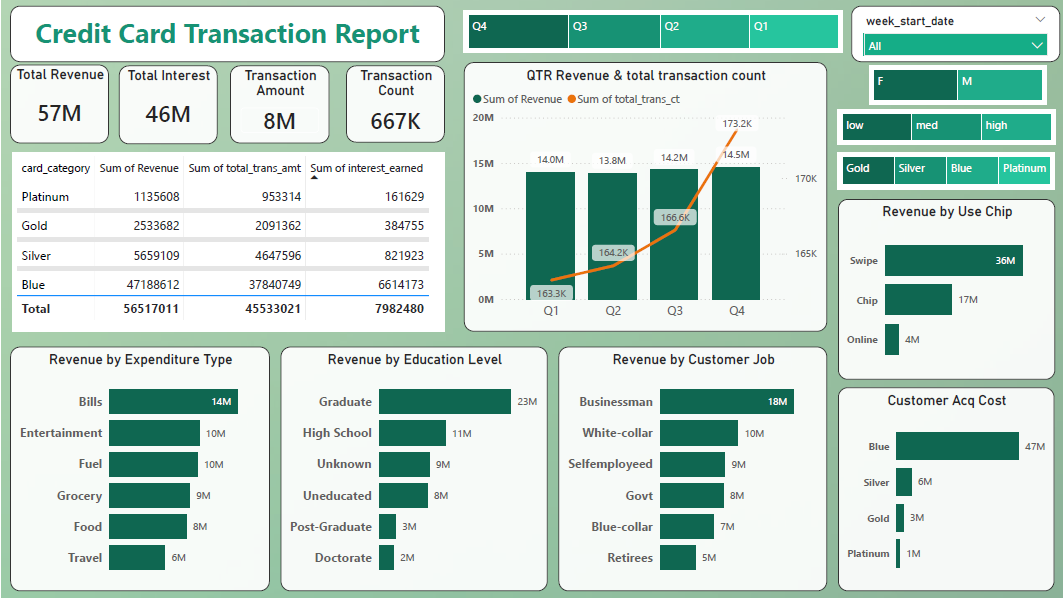

The page's visual inventory and layout, read from the dashboard file:
{"tool":"powerbi","page":{"name":"CC Transaction","canvas":[1280,720],"ordinal":1},"visuals":[{"type":"textbox","box":[10.1,7.2,524.2,67.7],"z":0},{"type":"lineStackedColumnComboChart","title":"QTR Revenue & total transaction count ","fields":{"Category":["public cc_detail.qtr"],"Y":["Sum(public cc_detail.Revenue)"],"Y2":["Sum(public cc_detail.total_trans_ct)"]},"box":[557.3,74.9,437.8,325.4],"z":1000},{"type":"barChart","title":" Revenue by Expenditure Type","fields":{"Y":["Sum(public cc_detail.Revenue)"],"Category":["public cc_detail.exp_type"]},"box":[10.1,417.6,312.5,295.2],"z":2000},{"type":"barChart","title":"Revenue by Education Level","fields":{"Y":["Sum(public cc_detail.Revenue)"],"Category":["public cust_detail.education_level"]},"box":[335.5,417.6,322.6,295.2],"z":3000},{"type":"barChart","title":"Revenue by Customer Job","fields":{"Y":["Sum(public cc_detail.Revenue)"],"Category":["public cust_detail.customer_job"]},"box":[671,417.6,324,295.2],"z":4000},{"type":"barChart","title":"Customer Acq Cost","fields":{"Y":["Sum(public cc_detail.Revenue)"],"Category":["public cc_detail.card_category"]},"box":[1008,466.6,260.6,246.2],"z":5000},{"type":"tableEx","fields":{"Values":["public cc_detail.card_category","Sum(public cc_detail.Revenue)","Sum(public cc_detail.total_trans_amt)","Sum(public cc_detail.interest_earned)"]},"box":[13,184.3,521.3,216],"z":6000},{"type":"cardVisual","title":"Total Revenue","fields":{"Data":["Sum(public cc_detail.Revenue)"]},"box":[10.1,77.8,119,95],"z":7000},{"type":"cardVisual","title":"Total Interest","fields":{"Data":["Sum(public cc_detail.total_trans_amt)"]},"box":[141.1,79.2,119,95],"z":8000},{"type":"cardVisual","title":"Transaction Amount","fields":{"Data":["Sum(public cc_detail.interest_earned)"]},"box":[275,79.2,119.5,93.6],"z":9000},{"type":"cardVisual","title":"Transaction Count","fields":{"Data":["Sum(public cc_detail.total_trans_ct)"]},"box":[414.7,79.2,119.5,93],"z":10000},{"type":"slicer","fields":{"Values":["public cc_detail.week_start_date"]},"box":[1023.8,7.2,252,67.7],"z":11000},{"type":"treemap","fields":{"Group":["public cc_detail.qtr"],"Values":["Avg(public cc_detail.client_num)"]},"box":[557.3,13,456.5,50.4],"z":12000},{"type":"treemap","fields":{"Group":["public cust_detail.gender"],"Values":["Avg(public cc_detail.client_num)"]},"box":[1046.2,79.1,213.2,47.3],"z":13000},{"type":"treemap","fields":{"Group":["public cc_detail.card_category"],"Values":["Avg(public cc_detail.client_num)"]},"box":[1008,184.3,260.6,43.2],"z":14000},{"type":"treemap","fields":{"Group":["public cust_detail.IncomeGroup"],"Values":["Avg(public cc_detail.client_num)"]},"box":[1008,132.5,262.1,41.8],"z":15000},{"type":"barChart","title":"Revenue by Use Chip","fields":{"Y":["Sum(public cc_detail.Revenue)"],"Category":["public cc_detail.use_chip","public cc_detail.card_category"]},"box":[1008,240.5,262.1,217.4],"z":16000}]}

Visuals, with their boxes in screenshot pixels (x1, y1, x2, y2), scaled from the page's 1280x720 canvas onto the 1063x599 screenshot:
textbox: region(8, 6, 444, 62)
"QTR Revenue & total transaction count " lineStackedColumnComboChart: region(463, 62, 826, 333)
" Revenue by Expenditure Type" barChart: region(8, 347, 268, 593)
"Revenue by Education Level" barChart: region(279, 347, 547, 593)
"Revenue by Customer Job" barChart: region(557, 347, 826, 593)
"Customer Acq Cost" barChart: region(837, 388, 1054, 593)
tableEx - public cc_detail.card_category x Sum(public cc_detail.Revenue): region(11, 153, 444, 333)
"Total Revenue" cardVisual: region(8, 65, 107, 144)
"Total Interest" cardVisual: region(117, 66, 216, 145)
"Transaction Amount" cardVisual: region(228, 66, 328, 144)
"Transaction Count" cardVisual: region(344, 66, 444, 143)
slicer - public cc_detail.week_start_date: region(850, 6, 1060, 62)
treemap - public cc_detail.qtr x Avg(public cc_detail.client_num): region(463, 11, 842, 53)
treemap - public cust_detail.gender x Avg(public cc_detail.client_num): region(869, 66, 1046, 105)
treemap - public cc_detail.card_category x Avg(public cc_detail.client_num): region(837, 153, 1054, 189)
treemap - public cust_detail.IncomeGroup x Avg(public cc_detail.client_num): region(837, 110, 1055, 145)
"Revenue by Use Chip" barChart: region(837, 200, 1055, 381)
